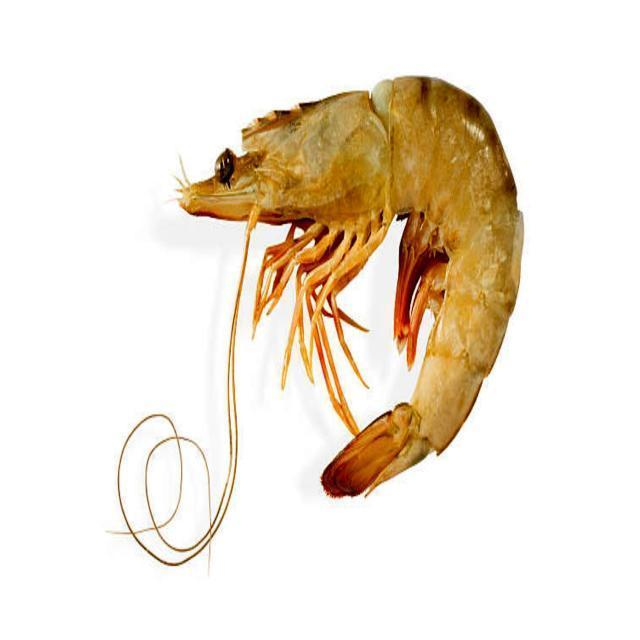shrimp: (180, 78, 524, 495)
